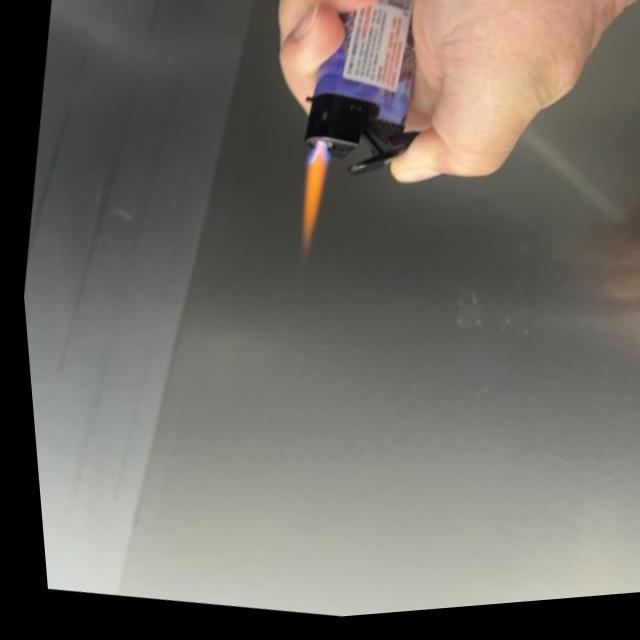Fire: (283, 149, 335, 258)
